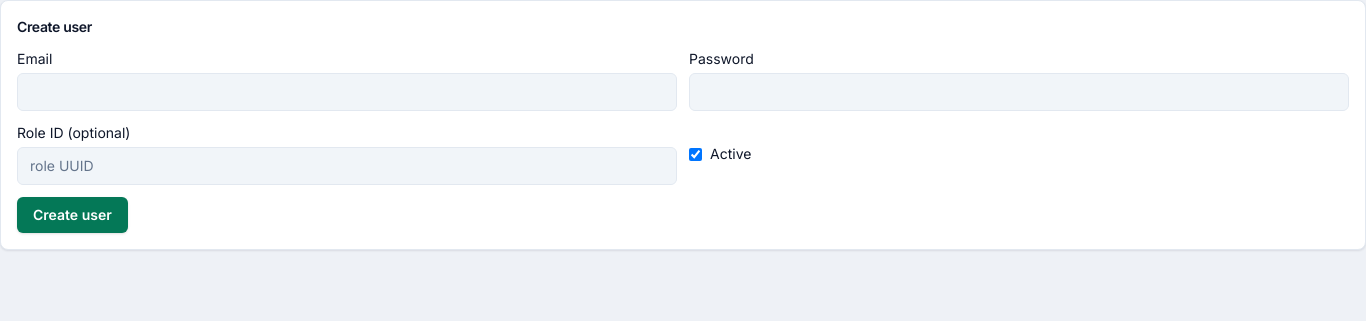
Scenario: CreateUserForm › renders a real 409 for a duplicate email
The image size is (1366, 321).
Type "new.user@example.com" into the field labelled "Email". click: (347,92)
box: top-left (17, 73), bottom-right (677, 111)
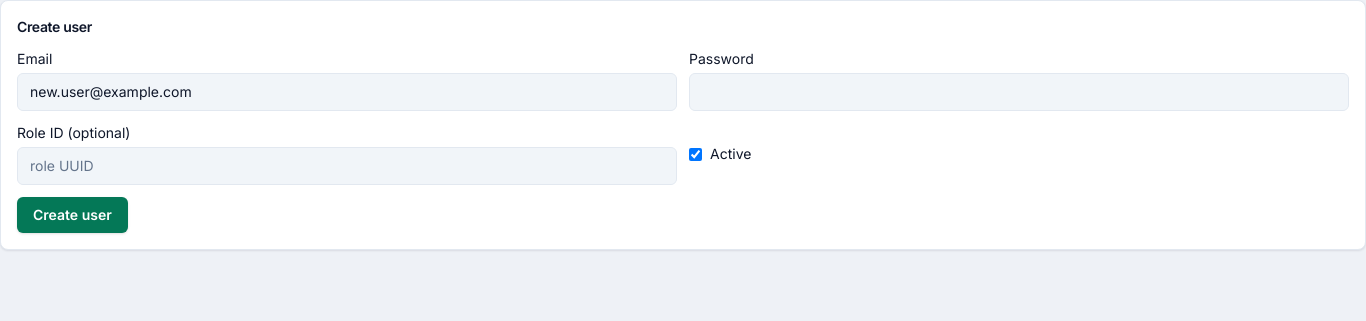
Type "supersecret" into the password field labelled "Password". click: (1019,92)
box: top-left (689, 73), bottom-right (1349, 111)
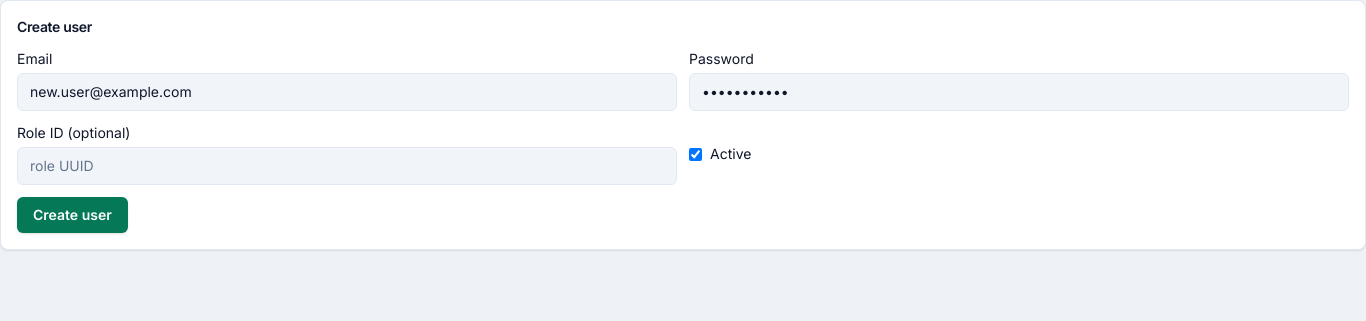
Click the button "Create user". click: (72,215)
box: top-left (17, 197), bottom-right (128, 233)
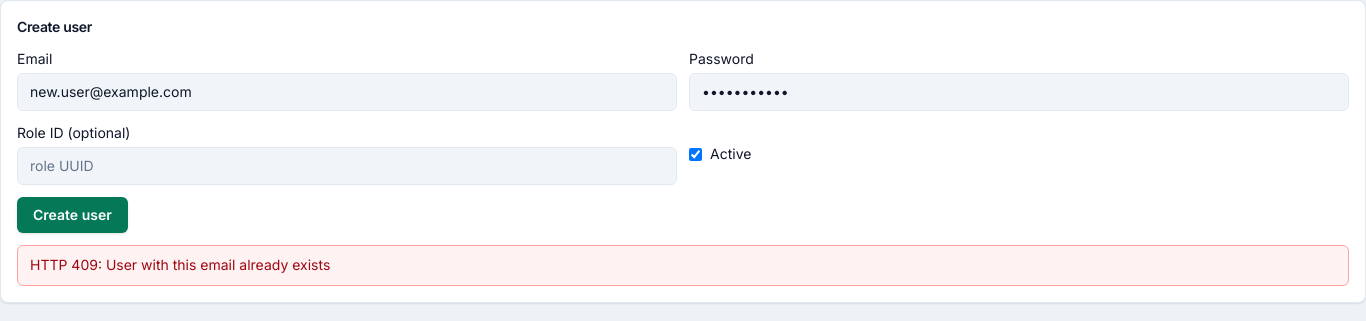
Check: the text "HTTP 409: User with this email already exists" is shown, box top-left (17, 245), bottom-right (1349, 286)
